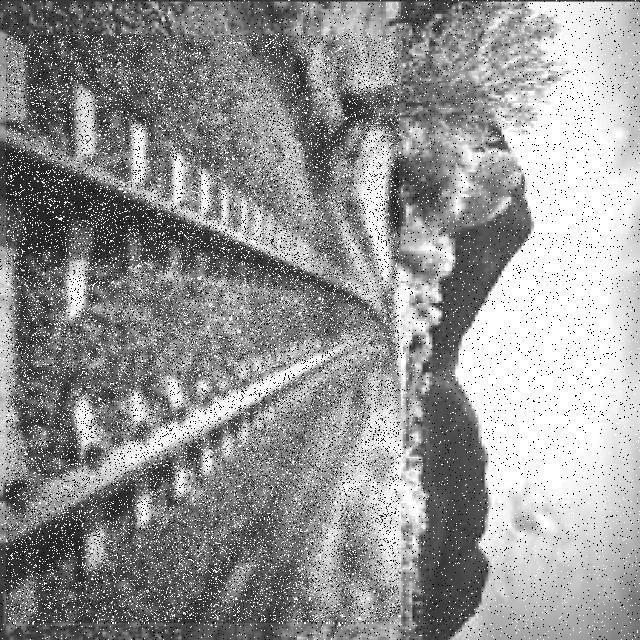rail: (7, 36, 400, 624)
